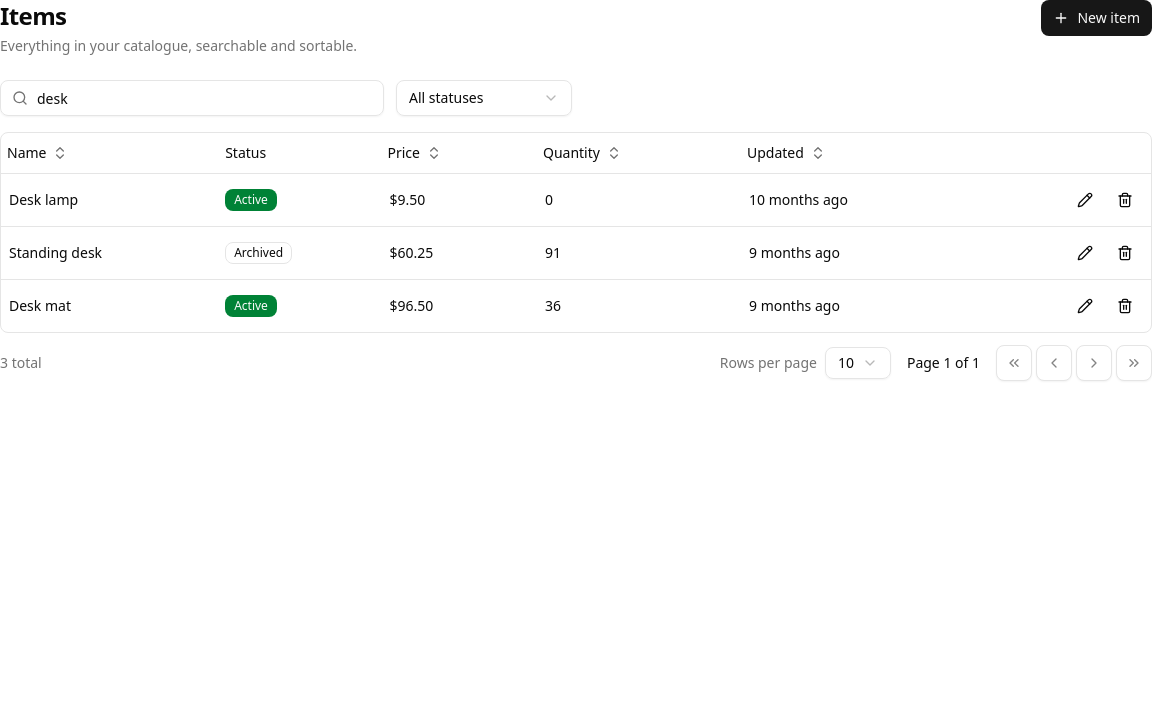
Test: ItemsListPage focus after a delete (WCAG 2.4.3) › moves focus to the previous row's link when the last row is deleted
This screenshot has width=1152, height=720.
Click the button named "Delete Desk mat" at (1125, 306), box [1107,288,1143,324]
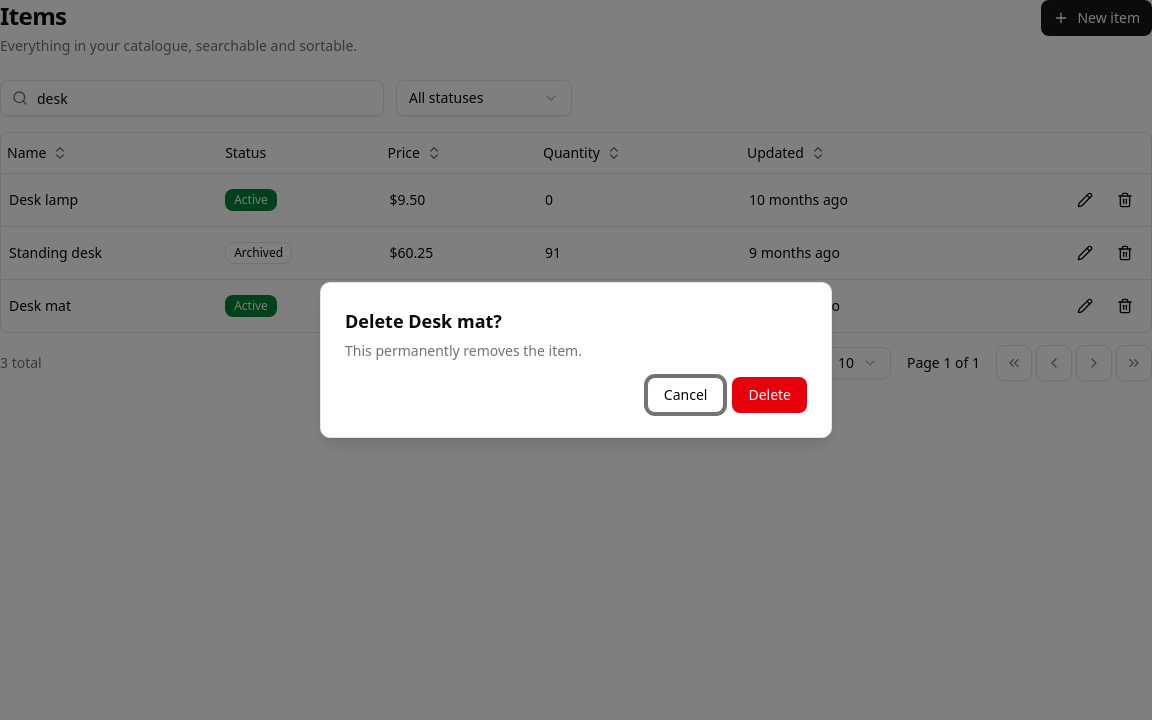
Click the button "Delete" at (770, 395), box [732,377,807,413]
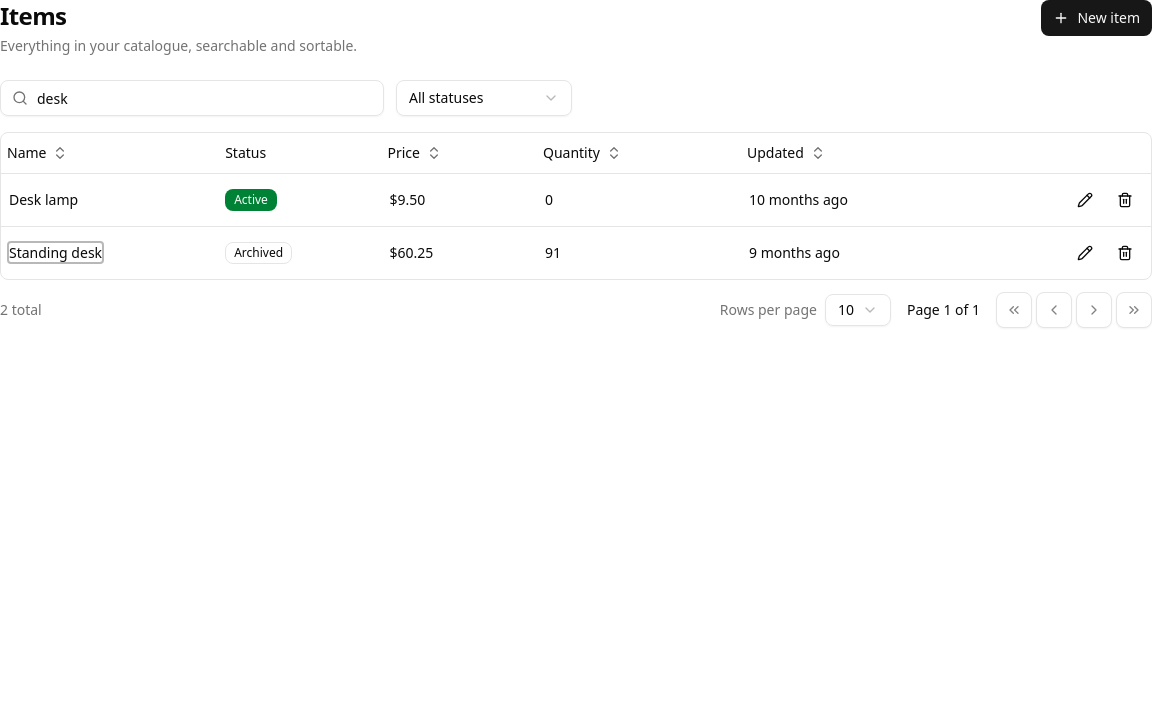
Now the link "Desk mat" is gone
